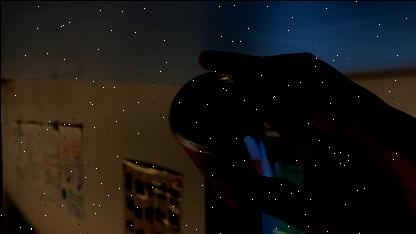Can: (160, 65, 272, 181)
